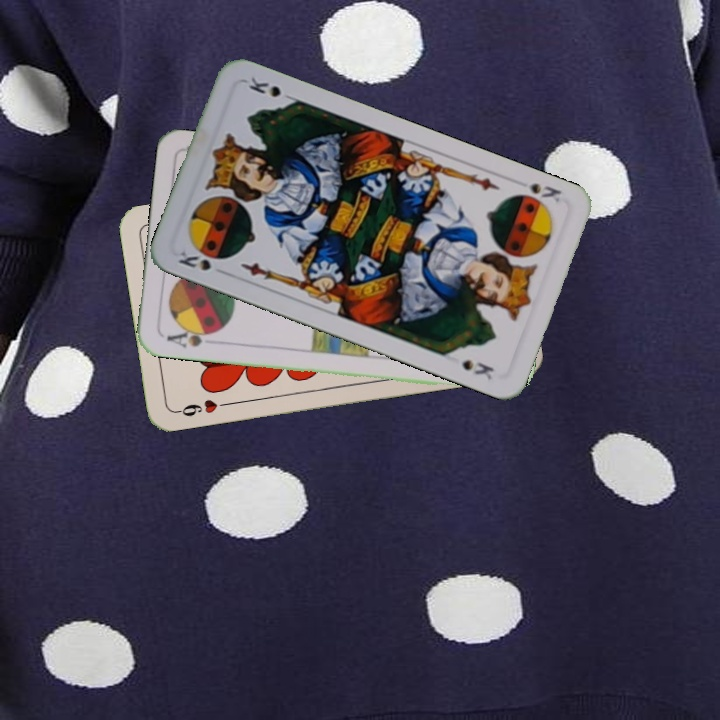H9: (171, 395, 230, 419)
SA: (162, 323, 221, 351)
SK: (174, 246, 228, 274), (526, 178, 564, 205)
